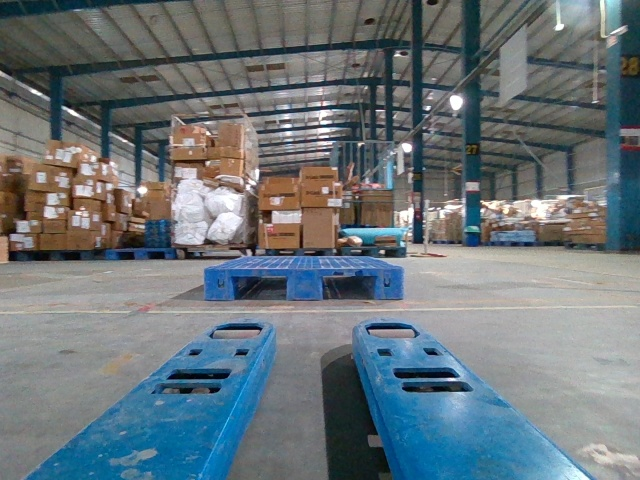block: (203, 265, 238, 300), (285, 269, 323, 300), (375, 267, 404, 299)
front: (205, 267, 404, 300)
hole pallet: (234, 275, 289, 300), (322, 276, 375, 300)
